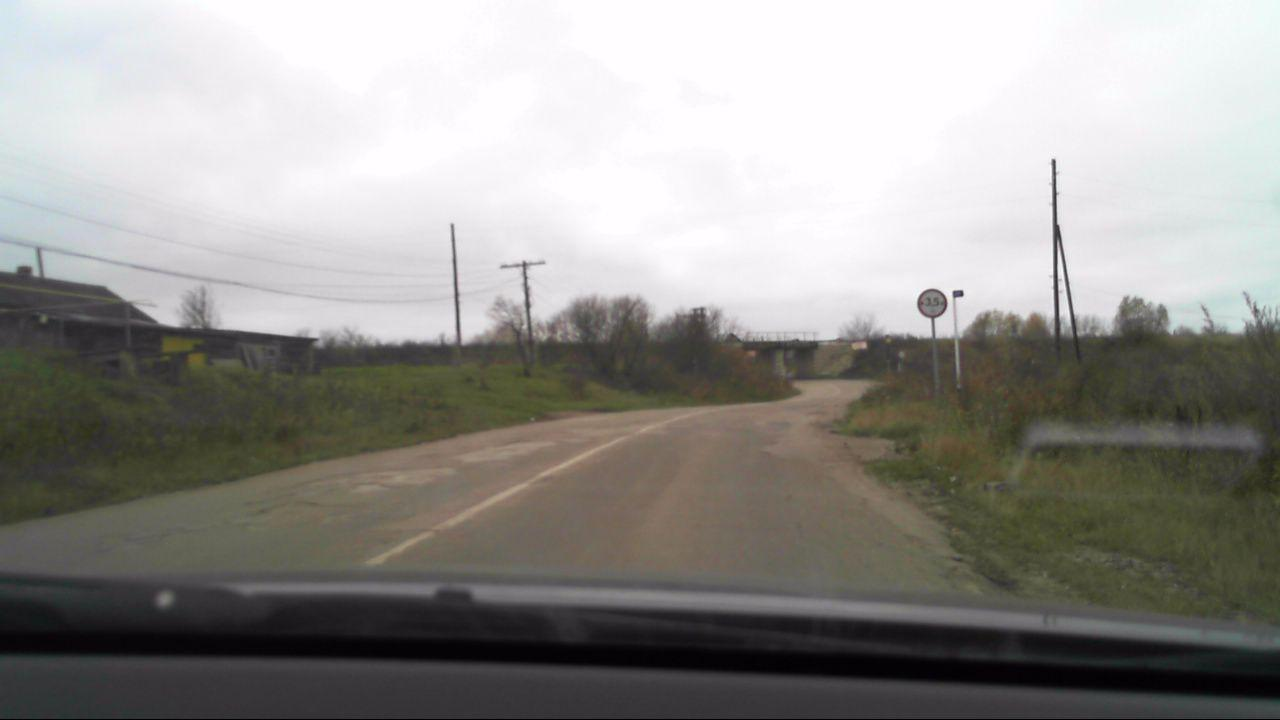3_14: (916, 288, 949, 319)
